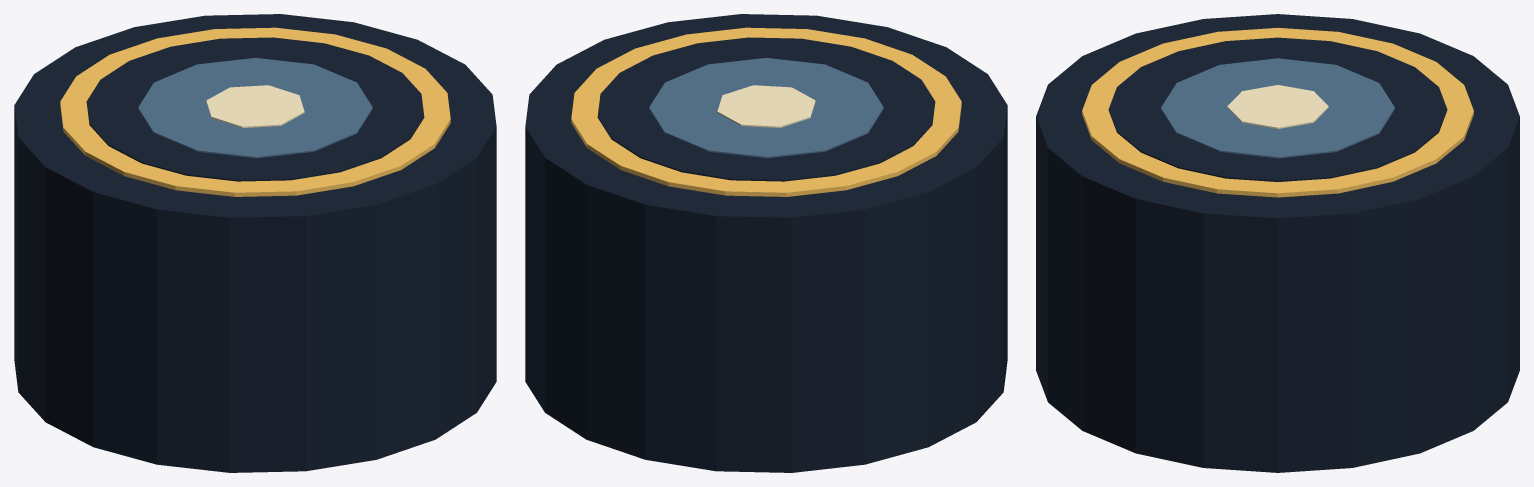
File: f1-wheel.glb
3 views of the same model, side by side, from view 1: azimuth 30°, elevation 25°; view 2: azimuth 150°, elevation 25°; view 3: azimuth 270°, elevation 25° (orthographic).
Visible parts, largest first — view 1: cel_ink_F1 wheel, cel_blue_F1 wheel, cel_gold_F1 wheel, cel_cream_F1 wheel; view 2: cel_ink_F1 wheel, cel_blue_F1 wheel, cel_gold_F1 wheel, cel_cream_F1 wheel; view 3: cel_ink_F1 wheel, cel_blue_F1 wheel, cel_gold_F1 wheel, cel_cream_F1 wheel.
Boxes of the visible parts, <box> form: cel_ink_F1 wheel: <box>14,14,496,472</box>; cel_blue_F1 wheel: <box>138,58,372,158</box>; cel_gold_F1 wheel: <box>60,27,450,196</box>; cel_cream_F1 wheel: <box>206,85,304,127</box>; cel_ink_F1 wheel: <box>525,14,1007,472</box>; cel_blue_F1 wheel: <box>649,58,883,158</box>; cel_gold_F1 wheel: <box>571,27,961,196</box>; cel_cream_F1 wheel: <box>717,85,815,127</box>; cel_ink_F1 wheel: <box>1036,14,1519,472</box>; cel_blue_F1 wheel: <box>1161,58,1394,158</box>; cel_gold_F1 wheel: <box>1082,27,1473,197</box>; cel_cream_F1 wheel: <box>1227,85,1328,128</box>.
Size of the model in its own units: 0.62 by 0.388 by 0.62.
